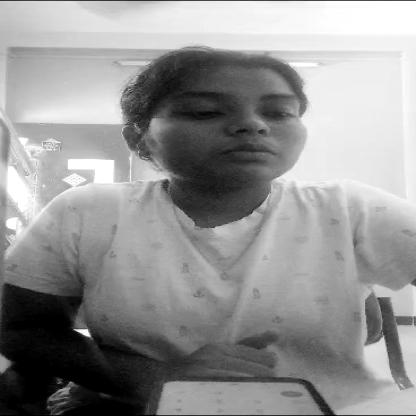Distracted: (140, 51, 326, 190)
